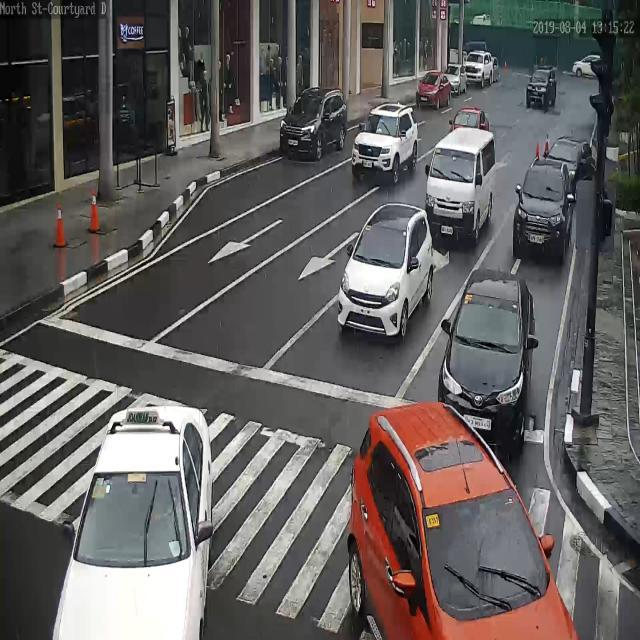car: (350, 402, 579, 640), (52, 405, 213, 639), (441, 263, 533, 460), (339, 200, 433, 341), (512, 158, 573, 259), (279, 88, 349, 163), (350, 106, 419, 178), (546, 136, 594, 184), (445, 106, 494, 138), (526, 66, 559, 113), (416, 70, 450, 110), (463, 50, 494, 85), (571, 54, 603, 80), (445, 63, 468, 94)
van: (425, 126, 497, 244)
